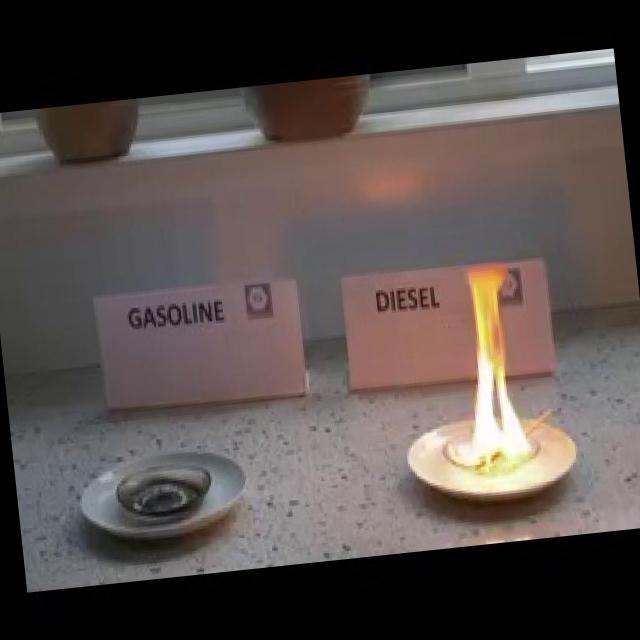Fire: (444, 257, 534, 473)
